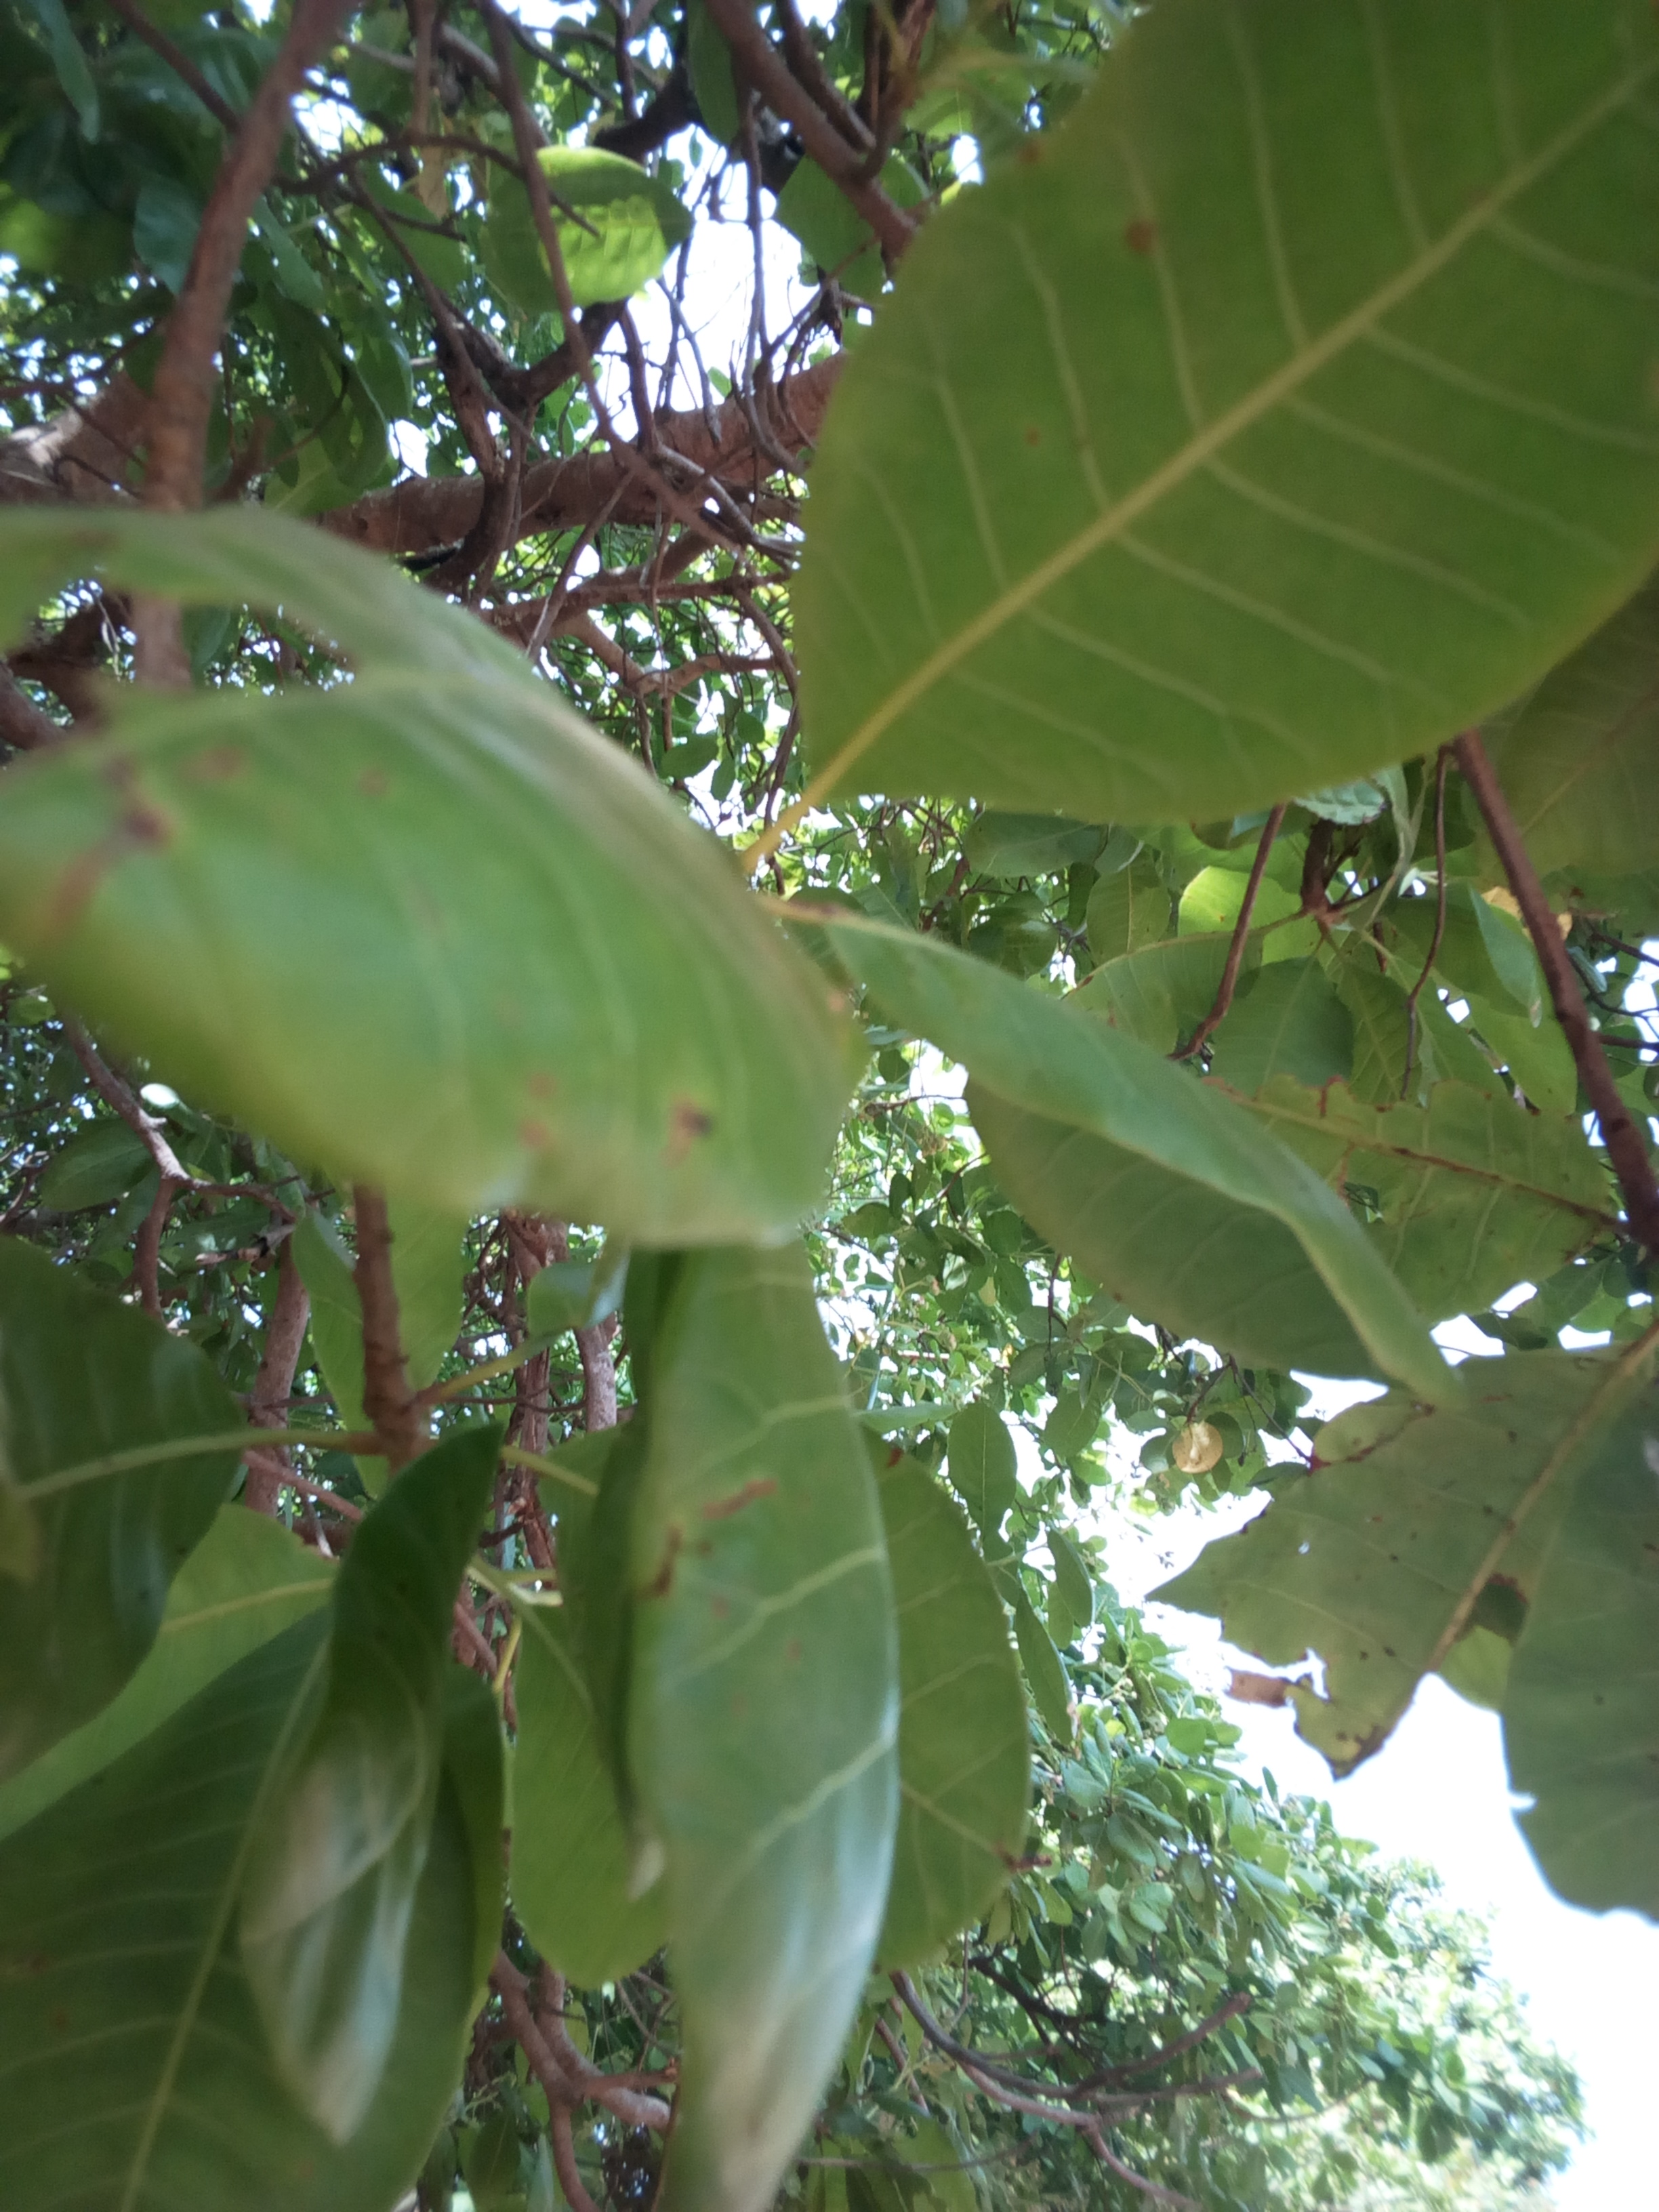Pestalotiose: (1213, 1350, 1615, 1777)
